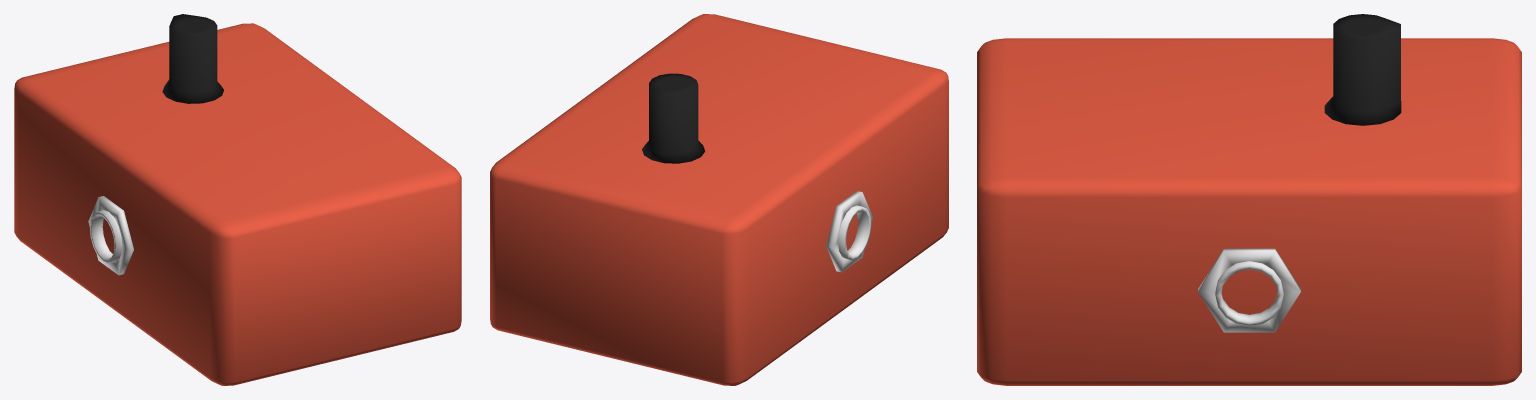
File: pedal.gltf
The picture shows the model from 3 angles, left to right: view 1: azimuth 30°, elevation 25°; view 2: azimuth 150°, elevation 25°; view 3: azimuth 270°, elevation 25°; orthographic projection. The views are drawn at different scales.
Visible parts, largest first — view 1: Body, Knob, Output; view 2: Body, Knob, Output; view 3: Body, Knob, Input.
Part boxes in pixels (x1,y1,x2,y2): Body: (14,23,461,385); Knob: (162,14,223,103); Output: (88,196,133,275); Body: (490,14,948,385); Knob: (642,73,705,163); Output: (826,191,872,272); Body: (977,38,1521,385); Knob: (1324,14,1401,125); Input: (1198,248,1300,332).
Size of the model in its own units: 0.087 by 0.07 by 0.12.
